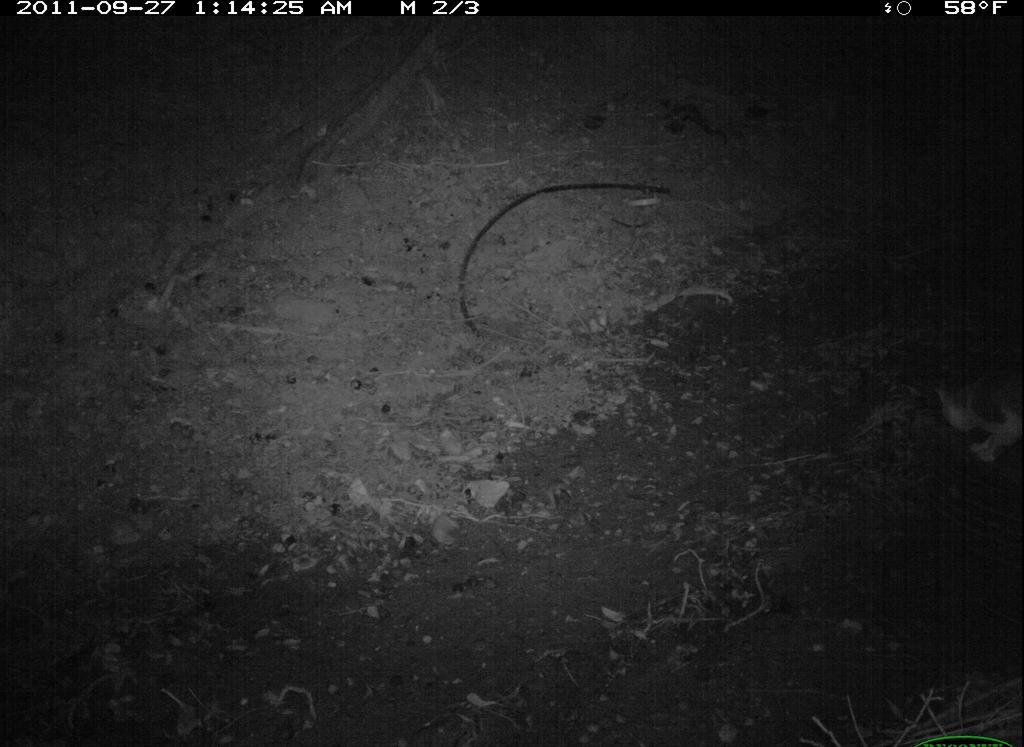cat: (927, 355, 1023, 470)
